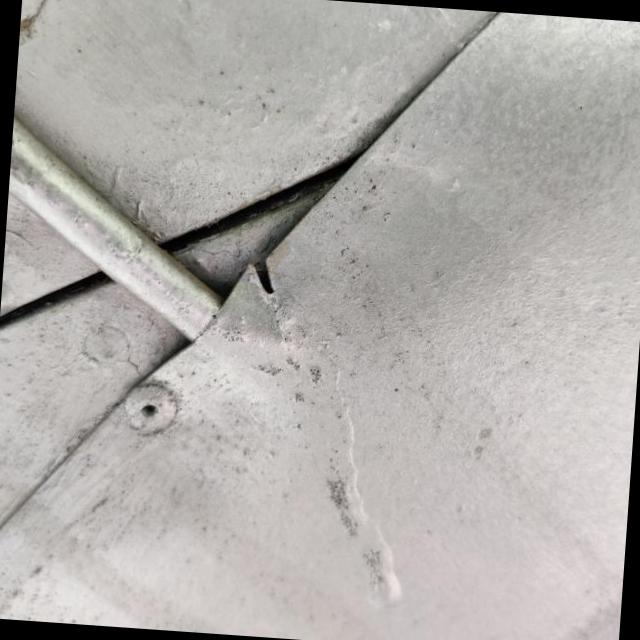Crack: (253, 259, 273, 293)
